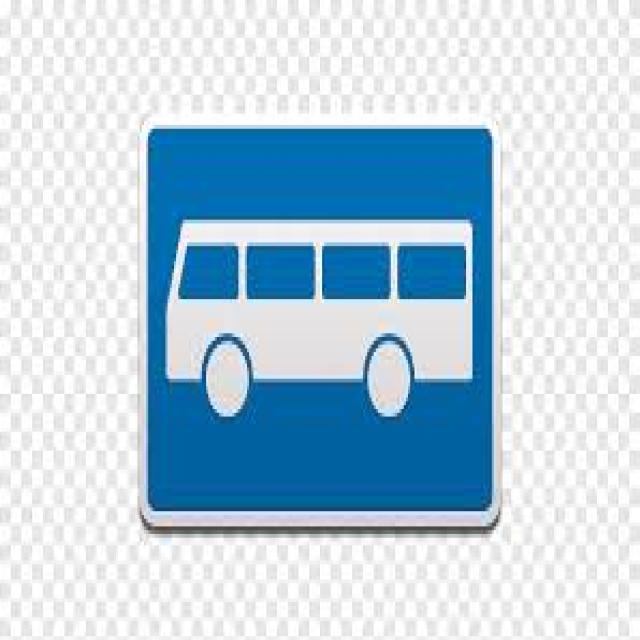ArretBus: (145, 125, 492, 520)
